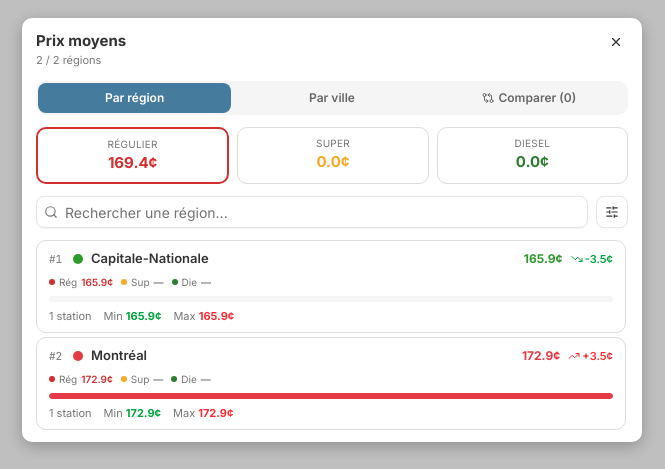
Test: PricePanel › switch vers la vue ville quand on clique
This screenshot has width=665, height=469.
Click the button "Par ville".
click(332, 98)  # box x1=235 y1=83 x2=429 y2=113
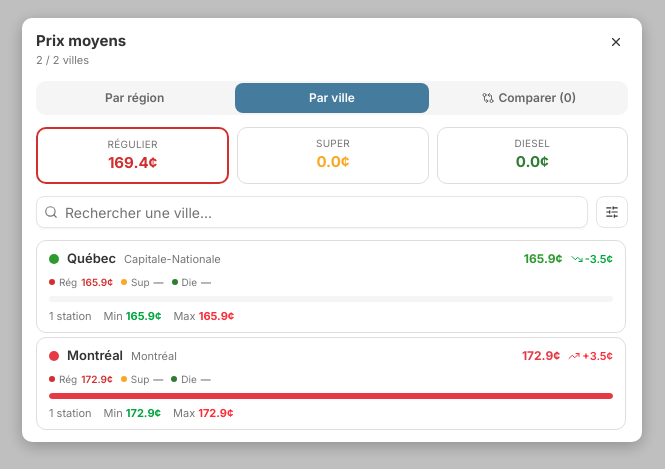
Result: the text "2 / 2 villes" is shown at x1=36 y1=53 x2=89 y2=67
